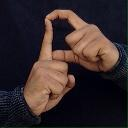hand: (22, 16, 75, 116), (45, 8, 119, 72)
